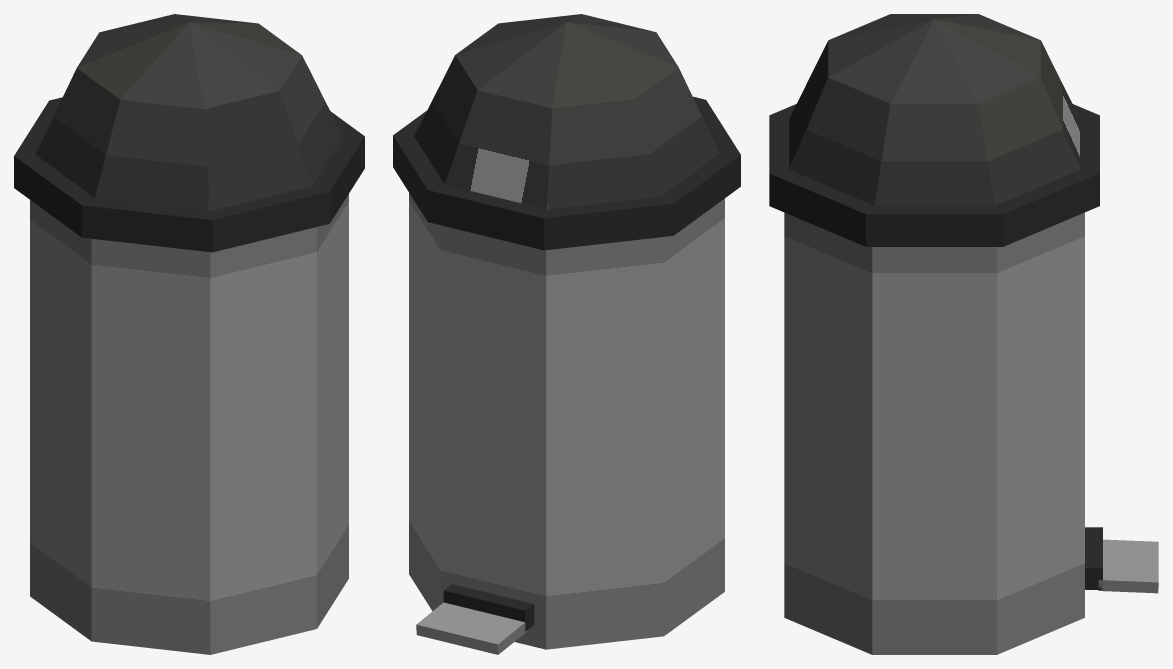
Rendered from kitchen bin.fbx.
3 renders of one model, left to right at view 1: azimuth 30°, elevation 25°; view 2: azimuth 150°, elevation 25°; view 3: azimuth 270°, elevation 25°, orthographic. The views are drawn at different scales.
Parts seen in each view (by area): view 1: cylinder, sphere, cylinder_1; view 2: cylinder, sphere, cylinder_1, cube, cube_1; view 3: cylinder, sphere, cylinder_1, cube, cube_1.
Part boxes in pixels (bbox=[...]): cylinder: bbox=[30, 194, 348, 654]; sphere: bbox=[35, 14, 343, 210]; cylinder_1: bbox=[14, 97, 364, 252]; cylinder: bbox=[409, 193, 724, 649]; sphere: bbox=[414, 14, 719, 209]; cylinder_1: bbox=[393, 96, 740, 250]; cube: bbox=[416, 602, 527, 654]; cube_1: bbox=[443, 584, 534, 631]; cylinder: bbox=[784, 212, 1084, 654]; sphere: bbox=[789, 14, 1079, 205]; cylinder_1: bbox=[769, 104, 1099, 246]; cube: bbox=[1098, 539, 1158, 593]; cube_1: bbox=[1085, 527, 1102, 589].
Bounding box in the file's own units: 34.38 × 65.62 × 40.48.
Materials: 1 (1 with a texture image).
